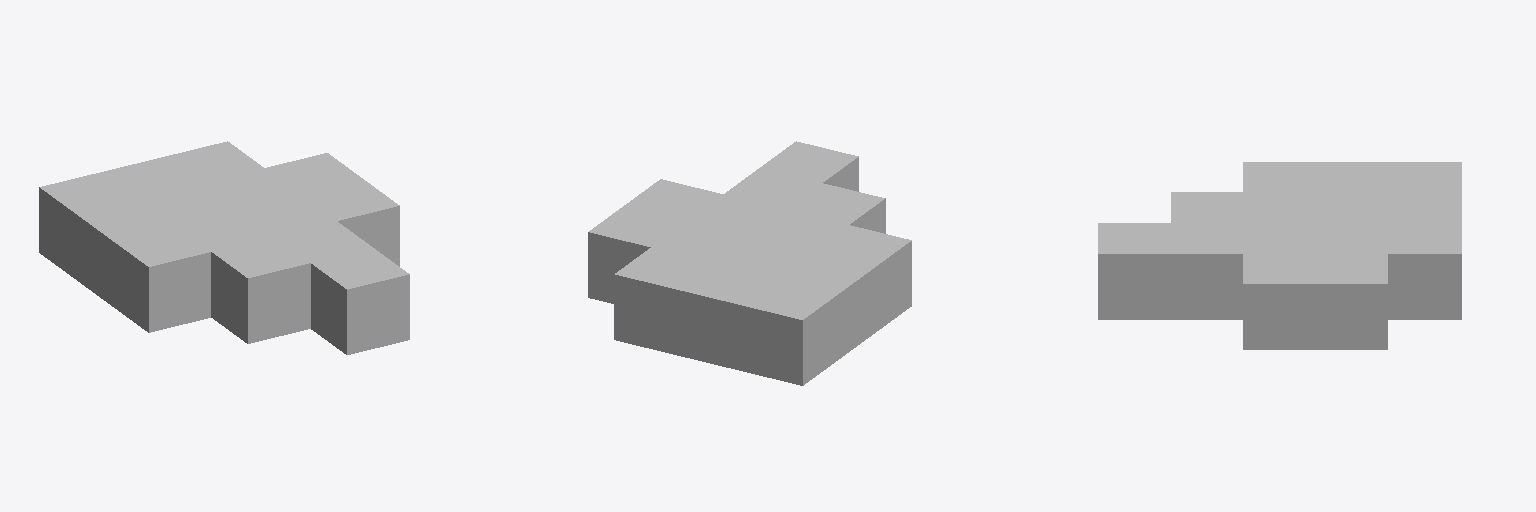
File: water.obj
3 renders of one model, left to right at view 1: azimuth 30°, elevation 25°; view 2: azimuth 150°, elevation 25°; view 3: azimuth 270°, elevation 25°, orthographic.
Parts seen in each view (by area): view 1: Box002; view 2: Box002; view 3: Box002.
Part boxes in pixels (bbox=[...]): Box002: bbox=[39, 141, 409, 354]; Box002: bbox=[588, 141, 911, 385]; Box002: bbox=[1098, 162, 1461, 349].
Bounding box in the file's own units: 8 × 2 × 10.02.